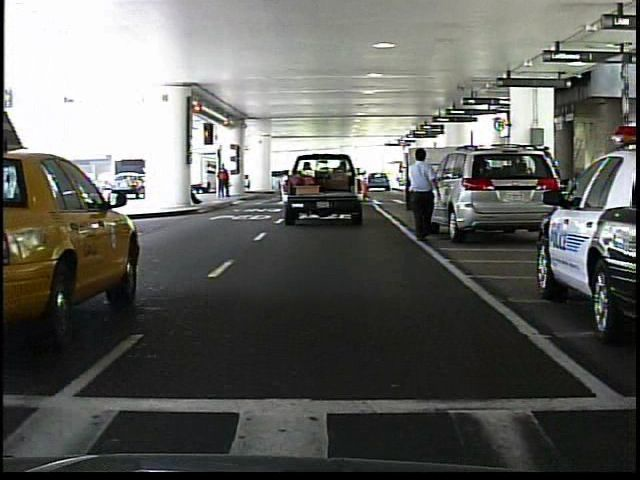person: (401, 145, 446, 241), (216, 163, 235, 202)
